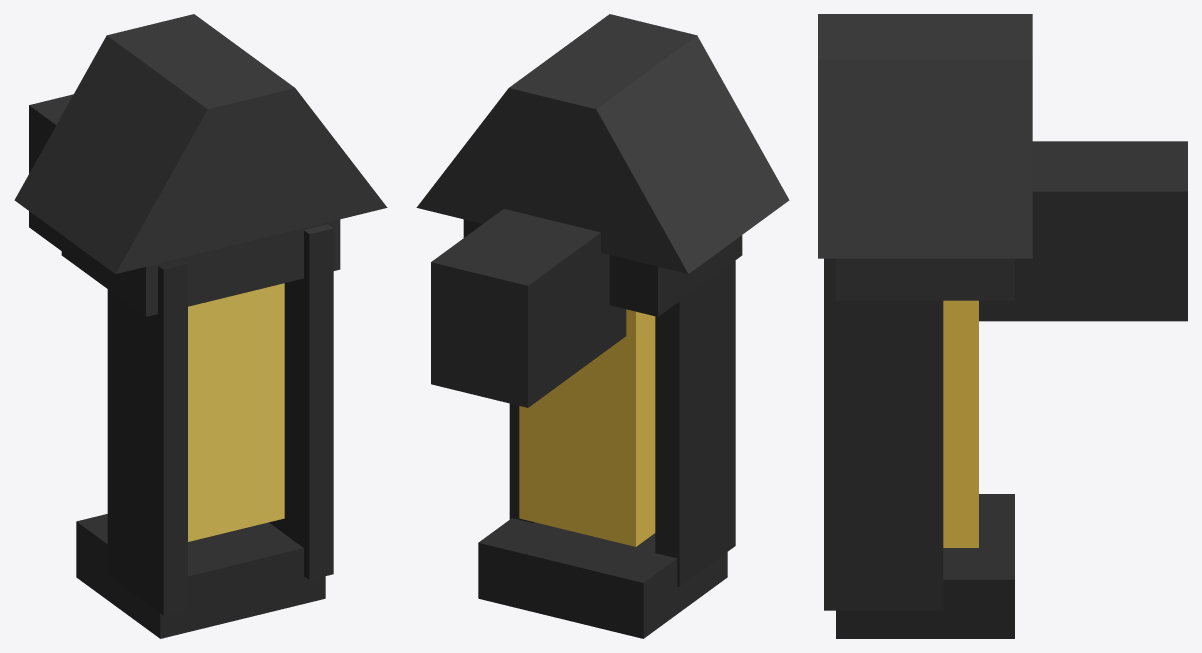
Rendered from R_ChickenStore_Lantern.fbx.
The picture shows the model from 3 angles, left to right: view 1: azimuth 30°, elevation 25°; view 2: azimuth 150°, elevation 25°; view 3: azimuth 270°, elevation 25°; orthographic projection. The views are drawn at different scales.
Parts seen in each view (by area): view 1: R_ChickenStore_Lantern.017; view 2: R_ChickenStore_Lantern.017; view 3: R_ChickenStore_Lantern.017.
Part boxes in pixels (box(x1,y1,x2,y2)): R_ChickenStore_Lantern.017: box(14, 14, 387, 638); R_ChickenStore_Lantern.017: box(416, 14, 789, 638); R_ChickenStore_Lantern.017: box(818, 14, 1187, 638).
Bounding box in the file's own units: 0.28 × 0.5175 × 0.31.
